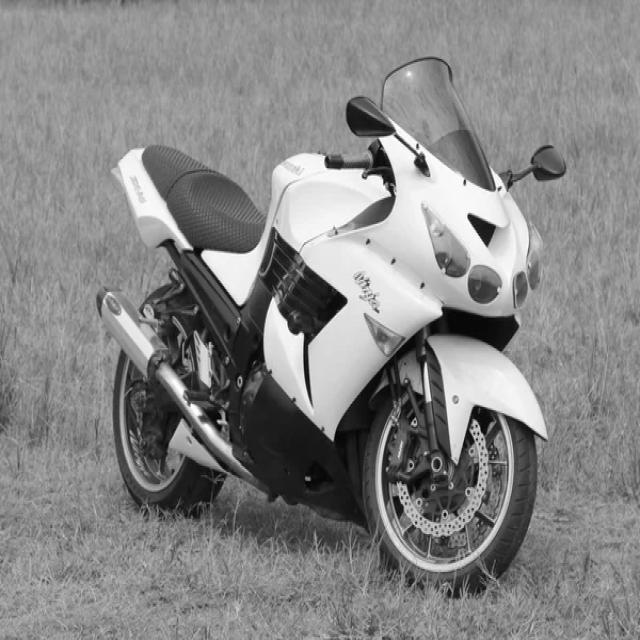Motorcycle: (97, 57, 566, 591)
